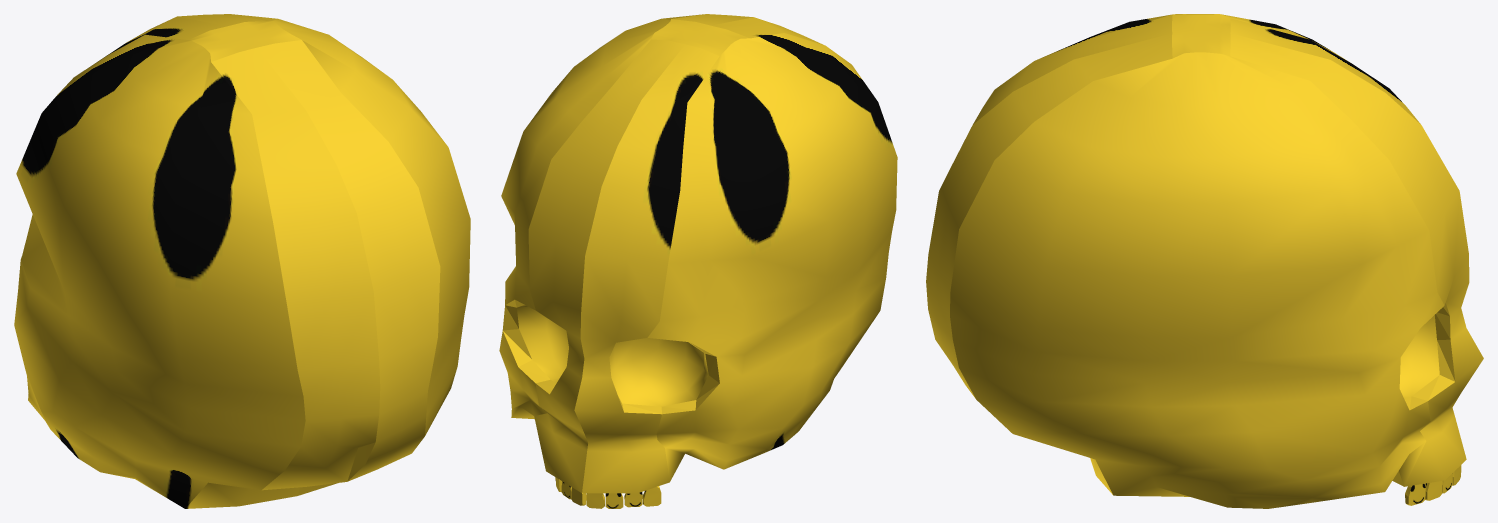
The model's file is Calavera.FBX.
3 views of the same model, side by side, from view 1: azimuth 30°, elevation 25°; view 2: azimuth 150°, elevation 25°; view 3: azimuth 270°, elevation 25° (orthographic). The views are drawn at different scales.
Parts seen in each view (by area): view 1: Box001; view 2: Box001; view 3: Box001.
Part boxes in pixels (x1,y1,x2,y2): Box001: (14,14,470,508); Box001: (499,14,897,508); Box001: (926,14,1483,508).
Size of the model in its own units: 55.61 by 71.11 by 80.65.
Materials: 5 (5 with a texture image).
